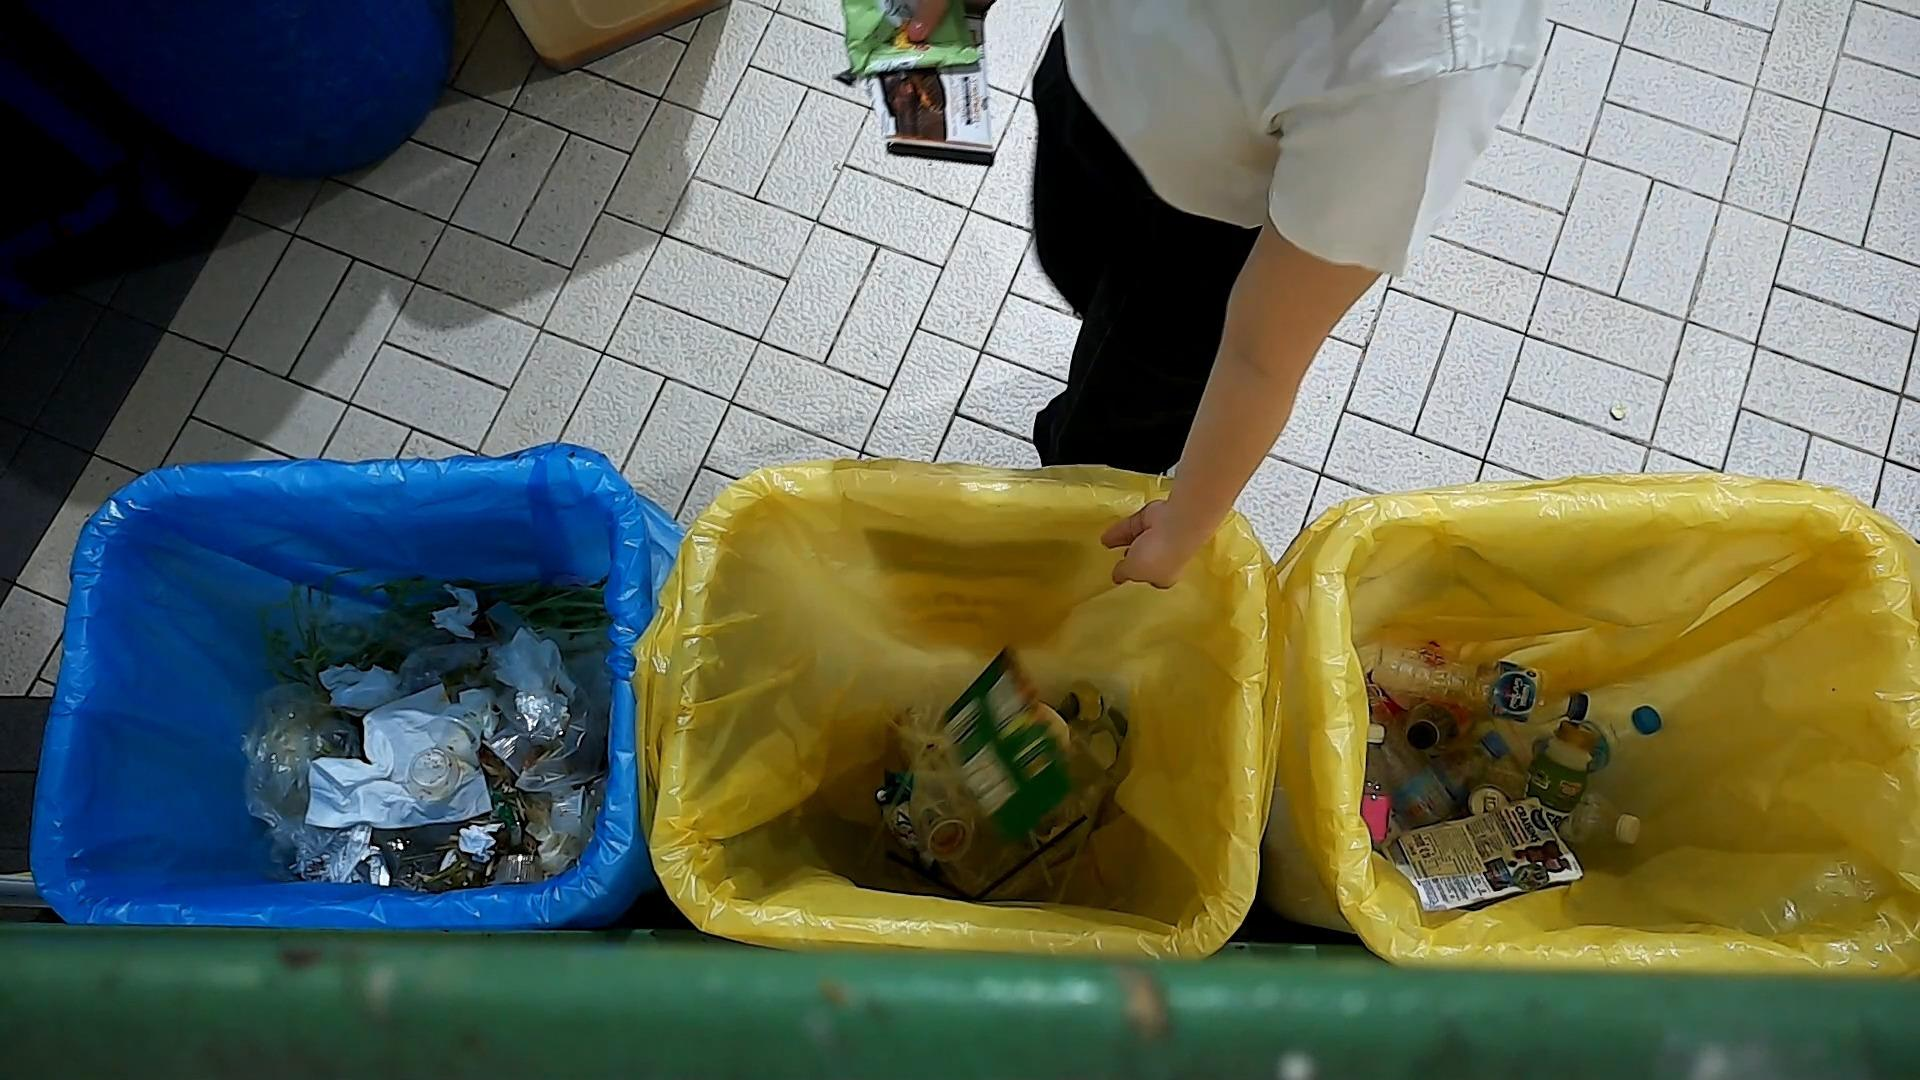can: (1465, 783, 1511, 818)
filled plastic bag: (235, 676, 384, 885)
food container: (402, 744, 464, 806), (427, 703, 488, 758), (545, 783, 596, 840), (480, 727, 535, 775), (920, 811, 971, 862), (491, 852, 545, 889)
plastic bottle: (1370, 632, 1593, 725), (1394, 729, 1513, 822), (1518, 719, 1601, 832), (1580, 700, 1664, 766), (1398, 696, 1484, 757), (1360, 721, 1393, 849)
snack packaging: (939, 645, 1072, 841), (1398, 799, 1584, 911), (873, 50, 1004, 166), (829, 0, 982, 78)
straw: (860, 691, 953, 861), (973, 811, 1091, 902)
tissue paper: (301, 684, 493, 828), (492, 624, 566, 696), (315, 661, 409, 712), (430, 582, 481, 640), (458, 820, 496, 860)
